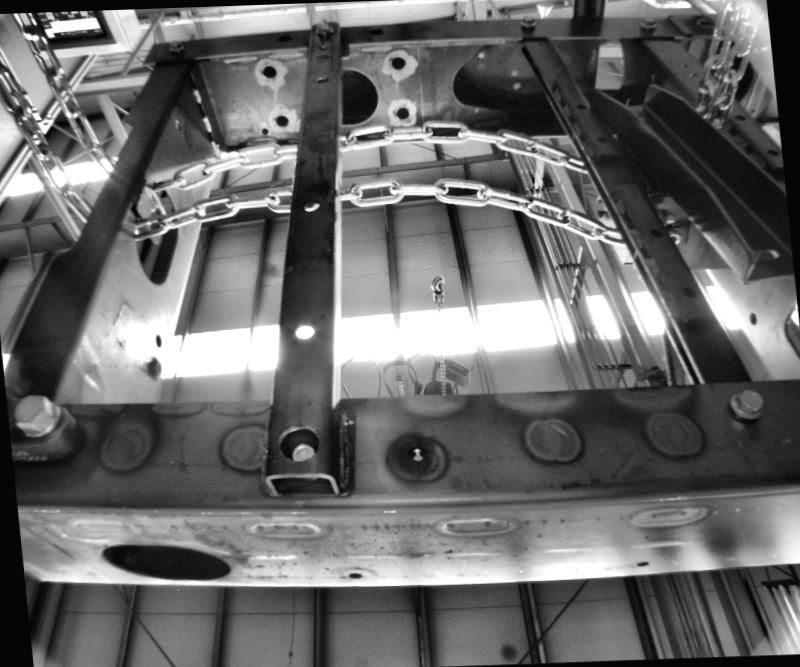bolt: (10, 385, 64, 446), (725, 387, 770, 419), (142, 354, 164, 379), (516, 12, 540, 27), (638, 13, 657, 31), (165, 36, 185, 52)
bracket: (124, 162, 173, 243)
hole: (81, 529, 238, 583), (278, 422, 318, 462), (292, 320, 318, 344), (403, 441, 428, 463), (300, 192, 322, 208), (258, 63, 278, 79), (390, 99, 408, 115), (274, 111, 291, 127), (745, 310, 760, 324), (389, 50, 404, 62), (634, 555, 648, 567), (347, 568, 362, 578), (152, 333, 160, 345), (260, 125, 268, 132)
welding: (189, 83, 204, 101), (200, 114, 212, 132), (208, 138, 220, 156)
